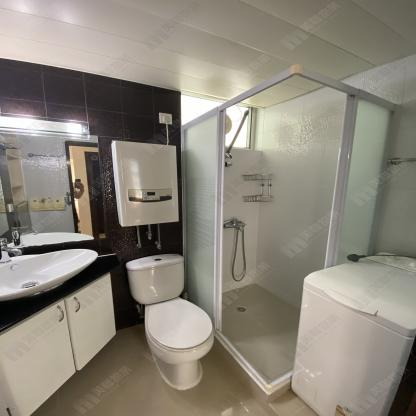Toilet: (125, 253, 214, 390)
Toilet Sink: (0, 249, 98, 302)
Water Cubicle: (181, 64, 400, 406)
Water Heater: (109, 140, 179, 227)
